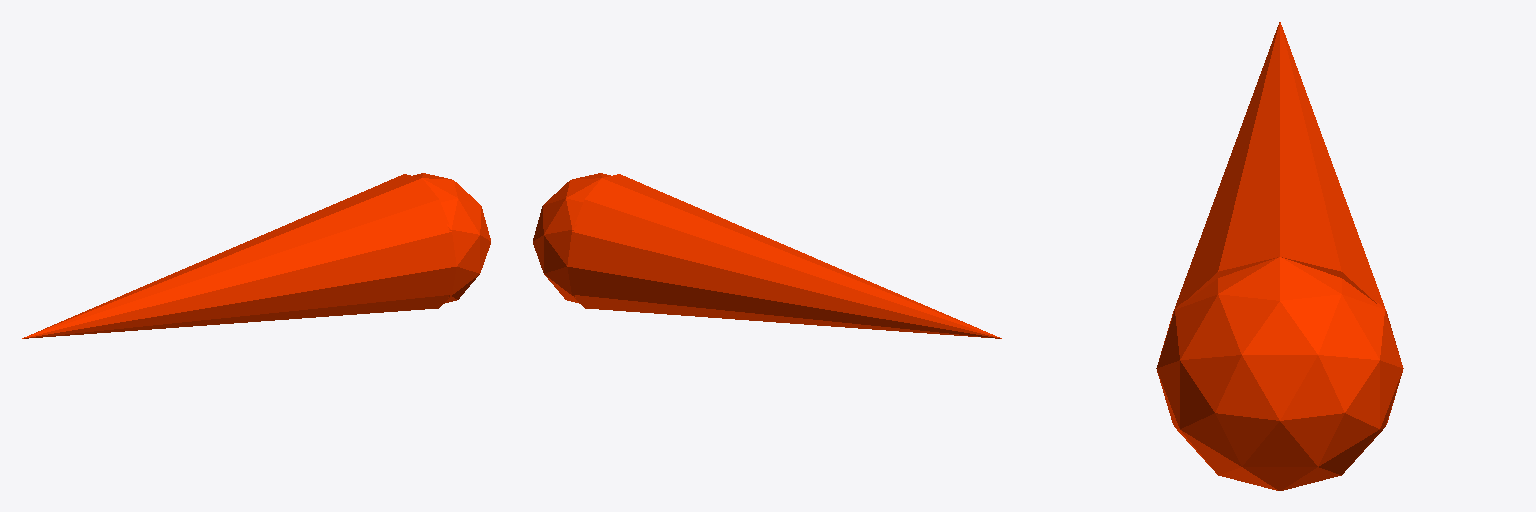
URDF robot description (carrot):
<?xml version="1.0"?>
<robot name="carrot"
       xmlns:xi="http://www.w3.org/2001/XInclude">
  <gazebo>
    <static>false</static>
  </gazebo>
  <link name="nil_link">
    <visual>
      <origin xyz="0 0 0" rpy="0 -0 0"/>
      <geometry>
        <mesh filename="model://carrot/meshes/nil_link_mesh.dae" scale="1 1 1" />
      </geometry>
    </visual>
    <collision>
      <origin xyz="0 0 0" rpy="0 -0 0"/>
      <geometry>
        <mesh filename="model://carrot/meshes/nil_link_mesh.dae" scale="1 1 1" />
      </geometry>
    </collision>
    <inertial>
      <mass value="0.001" />
      <origin xyz="0 0 0" rpy="0 -0 0"/>
      <inertia ixx="1e-03" ixy="0" ixz="0" iyy="1e-03" iyz="0" izz="1e-03"/>
    </inertial>
  </link>
  <gazebo reference="nil_link">
    <mu1>0.9</mu1>
    <mu2>0.9</mu2>
  </gazebo>
</robot>

--- Render facts (derived) ---
The picture shows the robot from 3 angles, left to right: view 1: azimuth 30°, elevation 25°; view 2: azimuth 150°, elevation 25°; view 3: azimuth 270°, elevation 25°; orthographic projection.
Model carrot with 1 links and 0 joints (none), rooted at nil_link, posed every joint at zero.
Links seen in each view (by area): view 1: nil_link; view 2: nil_link; view 3: nil_link.
Boxes of the visible links, x1,y1,x2,y2 form: nil_link: (22, 173, 490, 338); nil_link: (533, 173, 1001, 338); nil_link: (1156, 22, 1403, 490).
Bounding box of the posed robot: 0.23 × 0.06 × 0.06 m (x, y, z).
1 mesh visuals loaded from 1 distinct referenced files (1 Collada DAE).